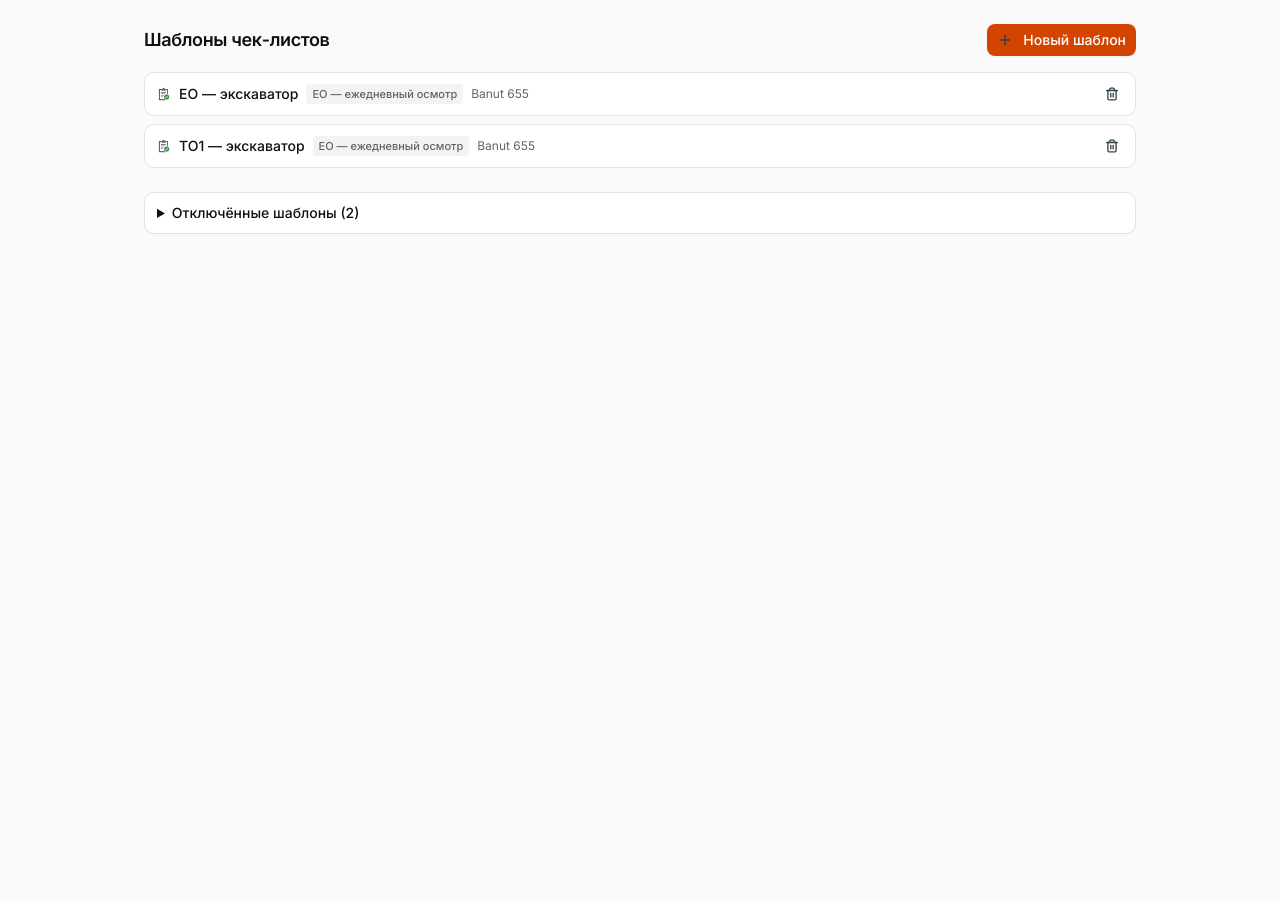
Test case: список шаблонов: деактивация с объяснением последствий (F-R123-7) › есть другая «База» для той же модели → о поломке не предупреждаем
This screenshot has width=1280, height=900.
What coordinates should you click on to do the following:
click the button named "Деактивировать" in the row of "ЕО — экскаватор"
I would click on:
 (1112, 94)
Its box is [1101, 83, 1123, 105].
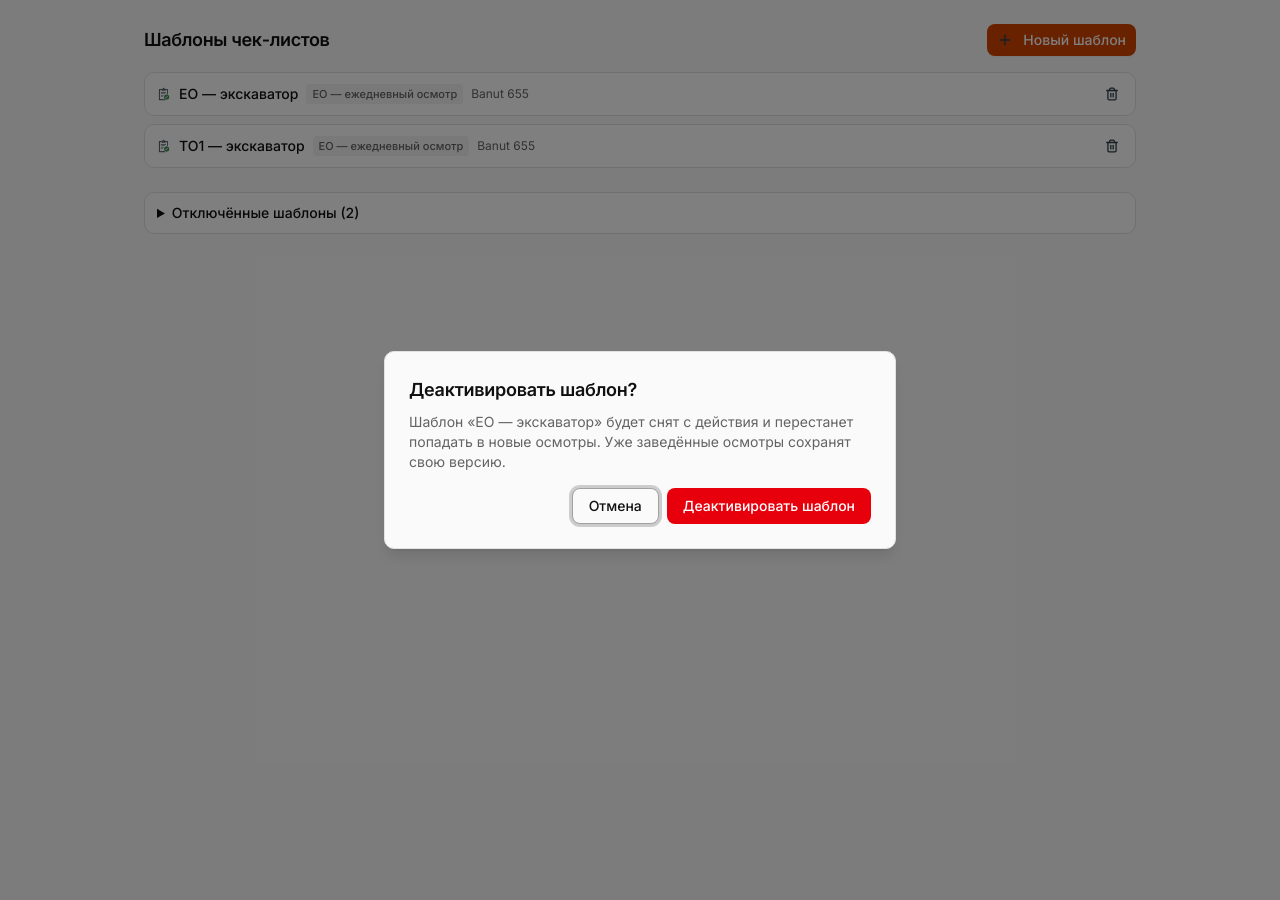
Expected: the heading "Деактивировать шаблон?" is shown, [409, 379, 637, 400]
